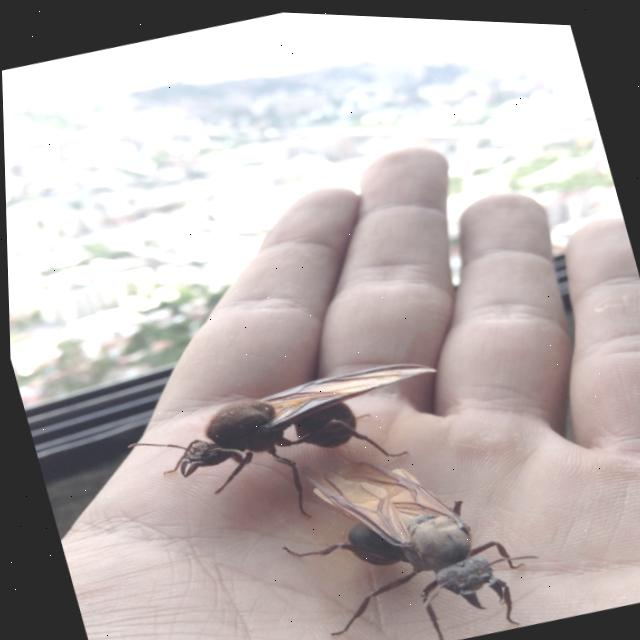Alive-Female-Alate: (115, 338, 466, 559), (256, 410, 552, 640)
